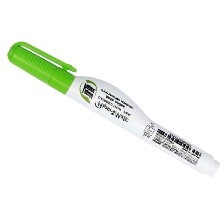correction_fluid: (5, 39, 220, 178)
